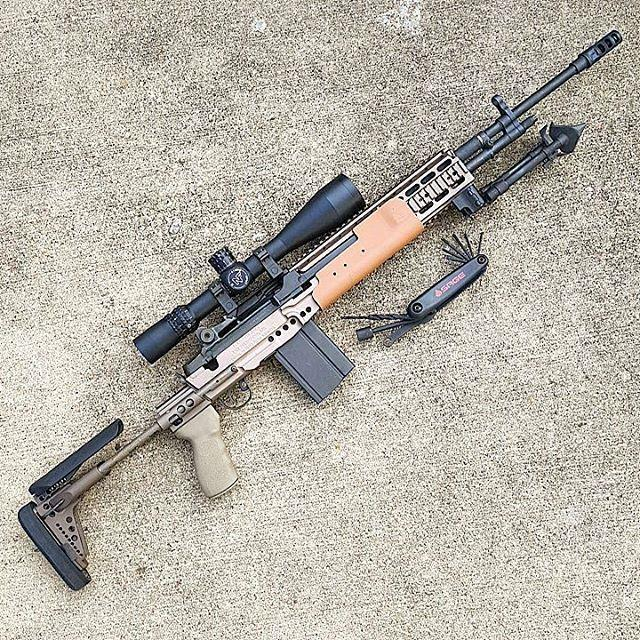Gun: (17, 10, 628, 608)
